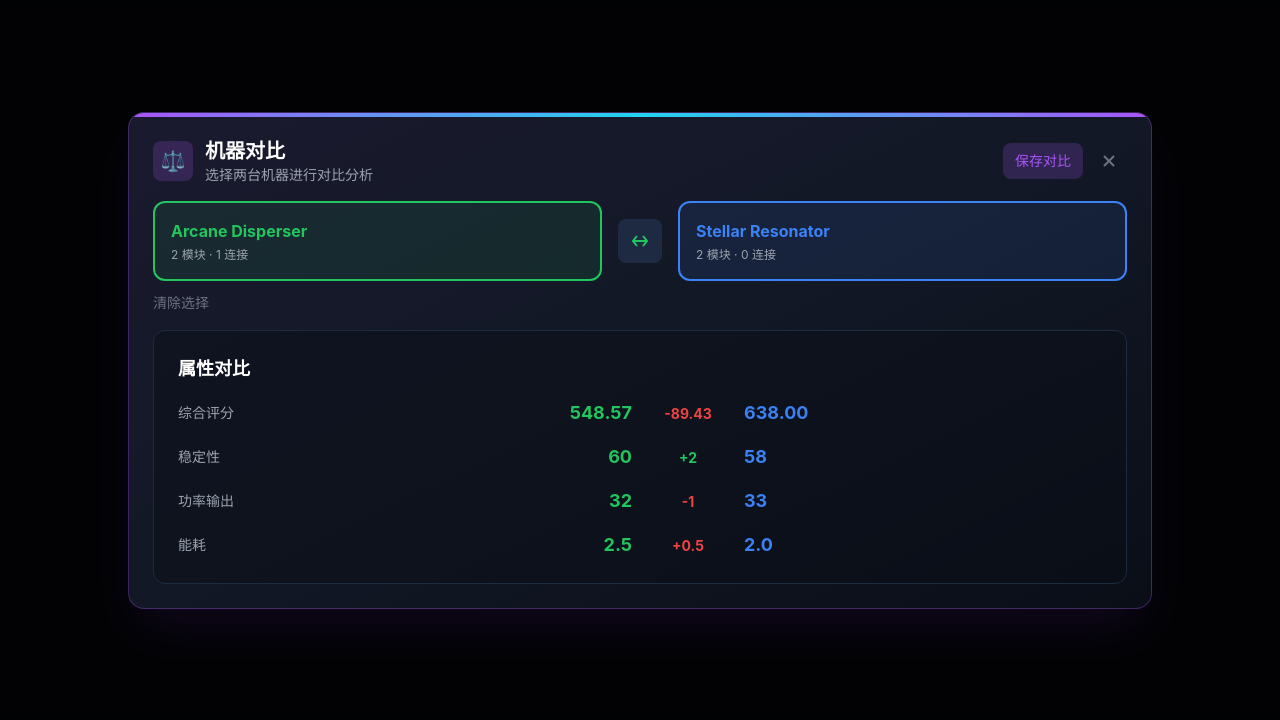
Test: MachineComparisonPanel › Save Comparison Dialog › opens save dialog when clicking save button
Step 1. Click the button with test id "save-comparison-button" → coordinates (1043, 160), box x1=1003 y1=142 x2=1083 y2=178
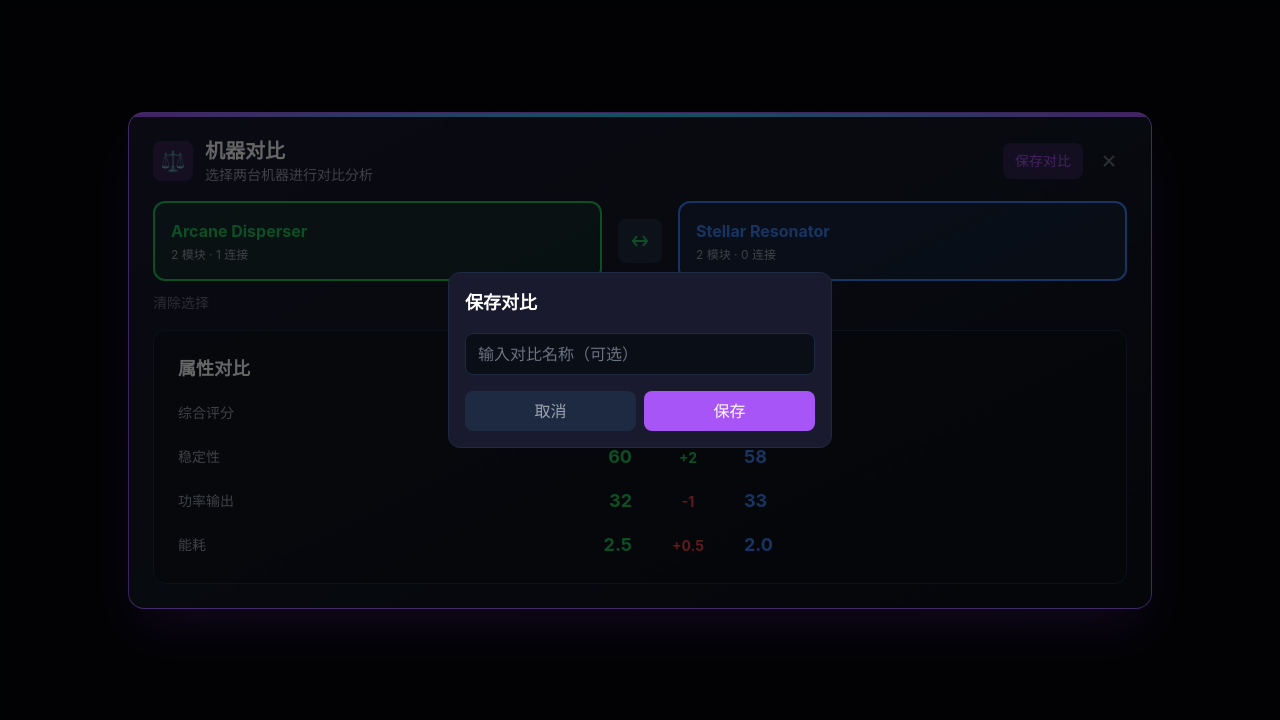
Now the field with test id "comparison-name-input" is shown, box x1=465 y1=333 x2=815 y2=375
Now the button with test id "cancel-save-button" is shown, box x1=465 y1=391 x2=636 y2=431
Now the button with test id "confirm-save-button" is shown, box x1=644 y1=391 x2=815 y2=431
